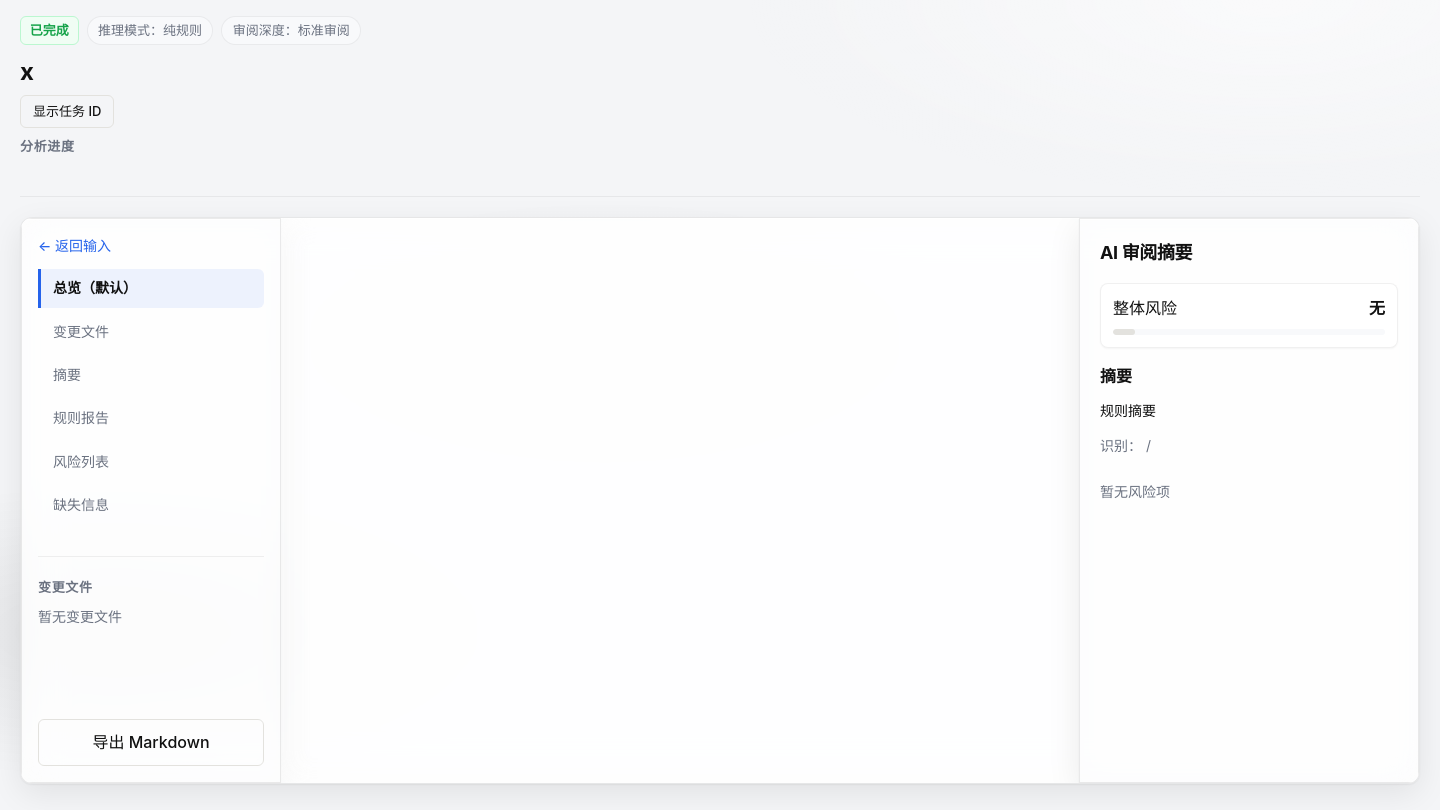
Test case: DetailPage › rules_only 合并规则报告与规则命中 Tab
Expected: the navigation bar named "任务详情导航" is shown, x1=38 y1=269 x2=264 y2=536
Expected: the button "规则命中" is not shown
Click the button "规则报告" at (151, 418), box x1=38 y1=398 x2=264 y2=438
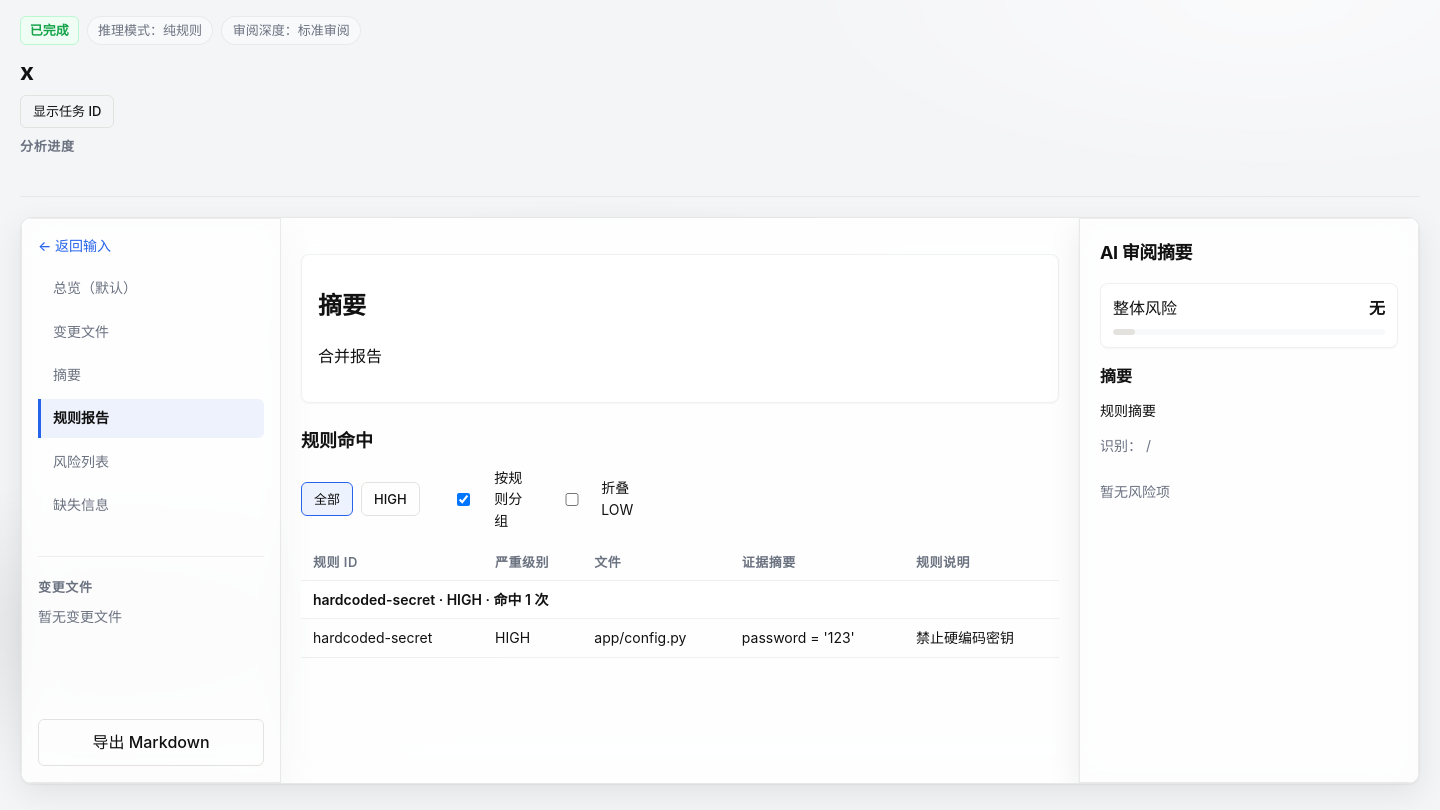
Expected: the text "合并报告" is shown, x1=318 y1=346 x2=382 y2=366
Expected: the text "禁止硬编码密钥" is shown, x1=904 y1=619 x2=1059 y2=658
